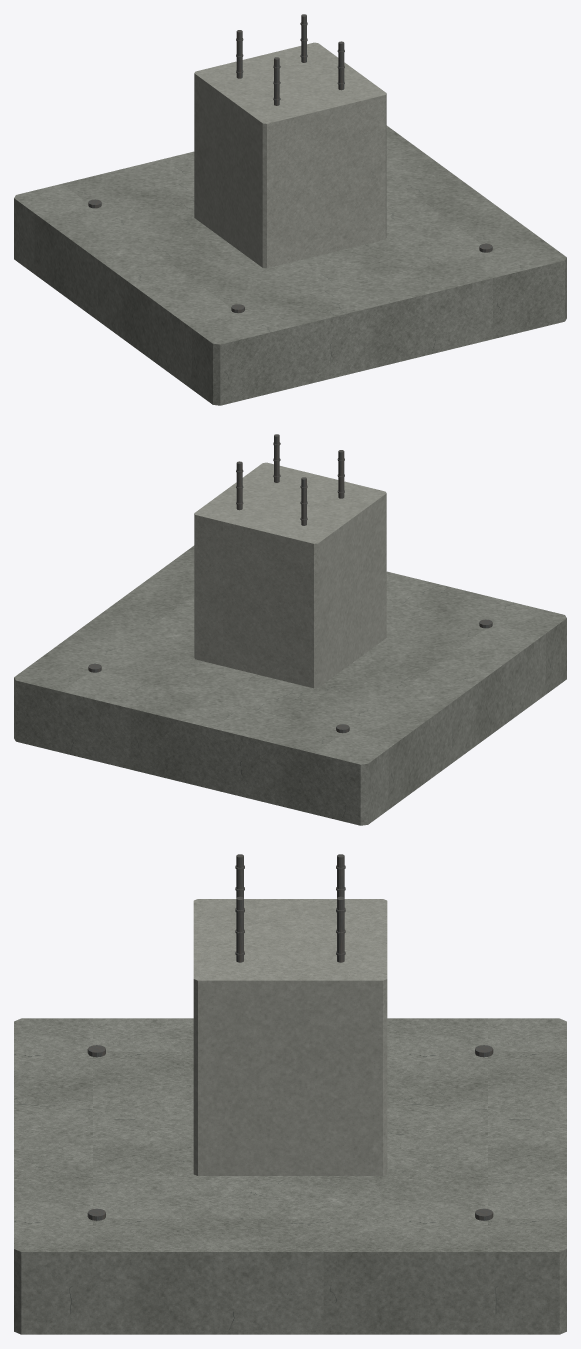
The model's file is PZ_Reinforced_Base_2m.glb.
3 views of the same model, one above another, from view 1: azimuth 30°, elevation 25°; view 2: azimuth 150°, elevation 25°; view 3: azimuth 270°, elevation 25° (orthographic). The views are drawn at different scales.
Visible parts, largest first — view 1: RENDER_PZ_Reinforced_Base_2m__RENDER_Foundation_Footing__000, RENDER_PZ_Reinforced_Base_2m__RENDER_Raised_Pedestal__001; view 2: RENDER_PZ_Reinforced_Base_2m__RENDER_Foundation_Footing__000, RENDER_PZ_Reinforced_Base_2m__RENDER_Raised_Pedestal__001; view 3: RENDER_PZ_Reinforced_Base_2m__RENDER_Foundation_Footing__000, RENDER_PZ_Reinforced_Base_2m__RENDER_Raised_Pedestal__001.
Boxes of the visible parts, x1=… form: RENDER_PZ_Reinforced_Base_2m__RENDER_Foundation_Footing__000: x1=14, y1=125, x2=566, y2=405; RENDER_PZ_Reinforced_Base_2m__RENDER_Raised_Pedestal__001: x1=194, y1=42, x2=386, y2=268; RENDER_PZ_Reinforced_Base_2m__RENDER_Foundation_Footing__000: x1=14, y1=545, x2=566, y2=825; RENDER_PZ_Reinforced_Base_2m__RENDER_Raised_Pedestal__001: x1=194, y1=462, x2=386, y2=688; RENDER_PZ_Reinforced_Base_2m__RENDER_Foundation_Footing__000: x1=14, y1=1018, x2=566, y2=1334; RENDER_PZ_Reinforced_Base_2m__RENDER_Raised_Pedestal__001: x1=193, y1=899, x2=387, y2=1175.
Size of the model in its own units: 2 by 1.36 by 2.
3 materials, 3 textured.
